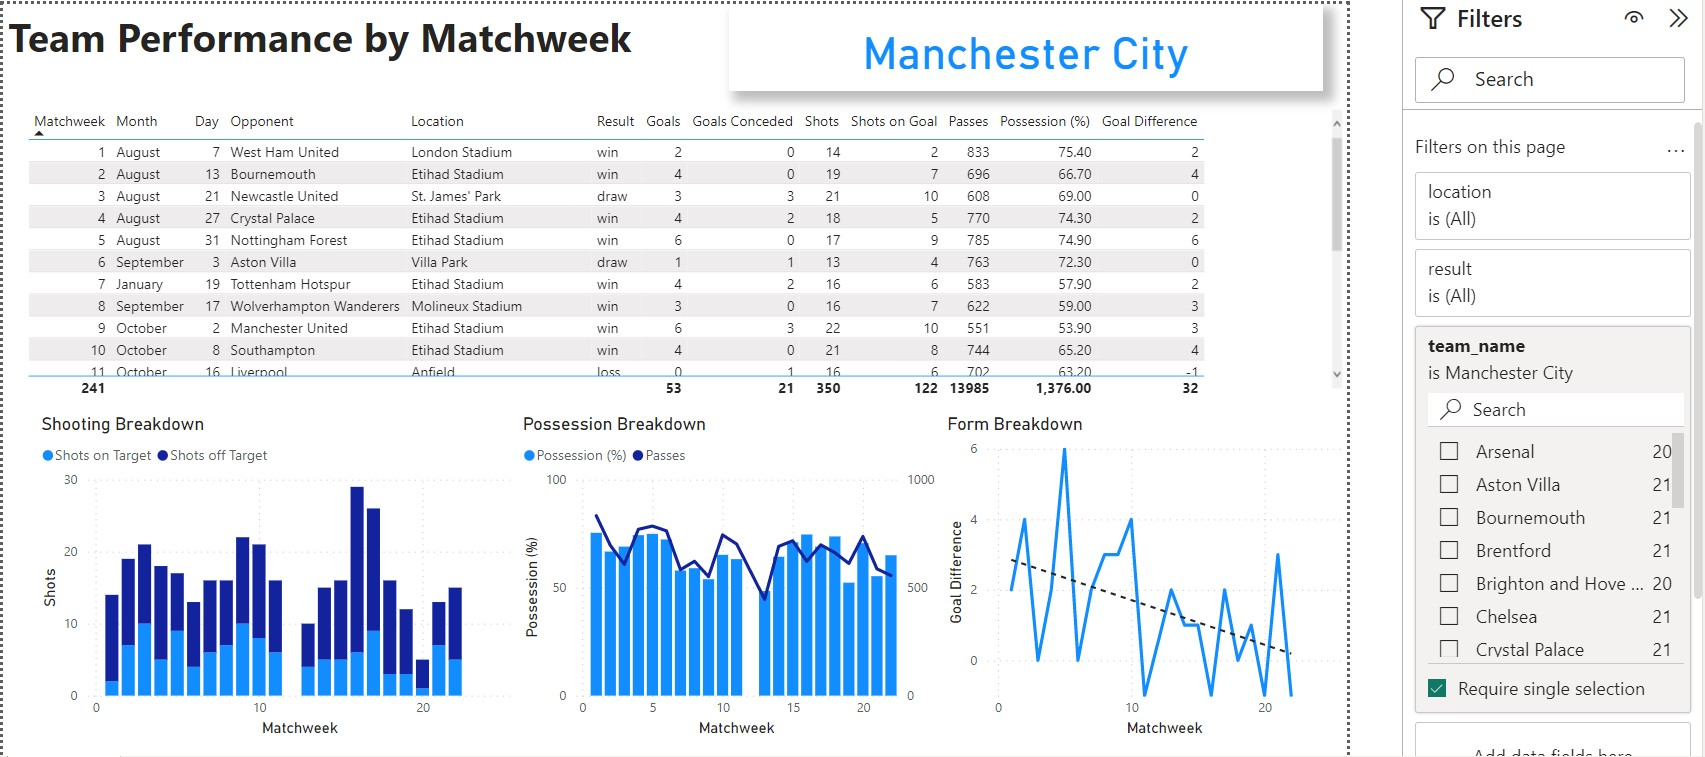

Layout of this report page (visuals, bound fields, positions):
{"tool":"powerbi","page":{"name":"Page 1","canvas":[1280,720],"ordinal":0},"visuals":[{"type":"columnChart","title":"Shooting Breakdown","fields":{"Category":["epl_2022_2023 team_performance.matchweek"],"Y":["Sum(epl_2022_2023 team_performance.shots_on_target)","epl_2022_2023 team_performance.shots minus shots_on_target"]},"box":[31.4,390,458.6,311.4],"z":0},{"type":"textbox","box":[0,0,621.4,95.7],"z":1},{"type":"lineStackedColumnComboChart","title":"Possession Breakdown","fields":{"Category":["epl_2022_2023 team_performance.matchweek"],"Y":["Sum(epl_2022_2023 team_performance.possession)"],"Y2":["Sum(epl_2022_2023 team_performance.passes)"]},"box":[490,390,422.9,311.4],"z":2},{"type":"tableEx","fields":{"Values":["Sum(epl_2022_2023 team_performance.matchweek)","epl_2022_2023 team_performance.date_played.Variation.Date Hierarchy.Month","epl_2022_2023 team_performance.date_played.Variation.Date Hierarchy.Day","epl_2022_2023 team_performance.opponent_name","epl_2022_2023 team_performance.location","epl_2022_2023 team_performance.result","Sum(epl_2022_2023 team_performance.score)","Sum(epl_2022_2023 team_performance.opponent_score)","Sum(epl_2022_2023 team_performance.shots)","Sum(epl_2022_2023 team_performance.shots_on_target)","Sum(epl_2022_2023 team_performance.passes)","Sum(epl_2022_2023 team_performance.possession)"]},"box":[18.6,95.7,1261.4,284.3],"z":3},{"type":"lineChart","title":"Form Breakdown","fields":{"Category":["epl_2022_2023 team_performance.matchweek"],"Y":["epl_2022_2023 team_performance.score minus opponent_score"]},"box":[894.3,390,385.7,311.4],"z":4},{"type":"card","fields":{"Values":["epl_2022_2023 team_performance.SelectedTeam"]},"box":[691.4,0,565.7,82.9],"z":5}]}

Visuals, with their boxes on the page's 1280x720 design canvas (x1, y1, x2, y2). These are canvas units, not pixel positions in the 1705x757 screenshot, which may show the page scaled, cropped or inside an application window:
"Shooting Breakdown" columnChart: x1=31 y1=390 x2=490 y2=701
textbox: x1=0 y1=0 x2=621 y2=96
"Possession Breakdown" lineStackedColumnComboChart: x1=490 y1=390 x2=913 y2=701
tableEx - Sum(epl_2022_2023 team_performance.matchweek) x epl_2022_2023 team_performance.date_played.Variation.Date Hierarchy.Month: x1=19 y1=96 x2=1280 y2=380
"Form Breakdown" lineChart: x1=894 y1=390 x2=1280 y2=701
card - epl_2022_2023 team_performance.SelectedTeam: x1=691 y1=0 x2=1257 y2=83
